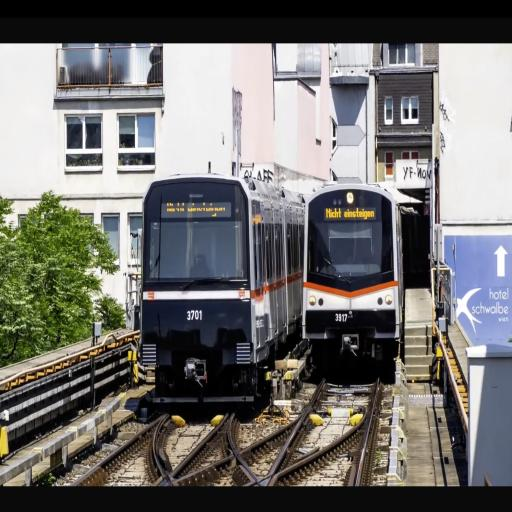V-Wagen: (302, 183, 400, 362)
X-Wagen: (138, 176, 302, 374)
